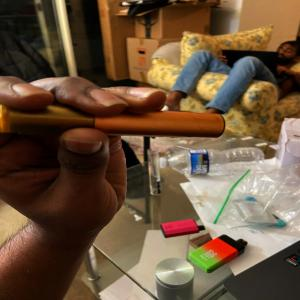Golden-E-Ciggirate: (0, 95, 227, 146)
